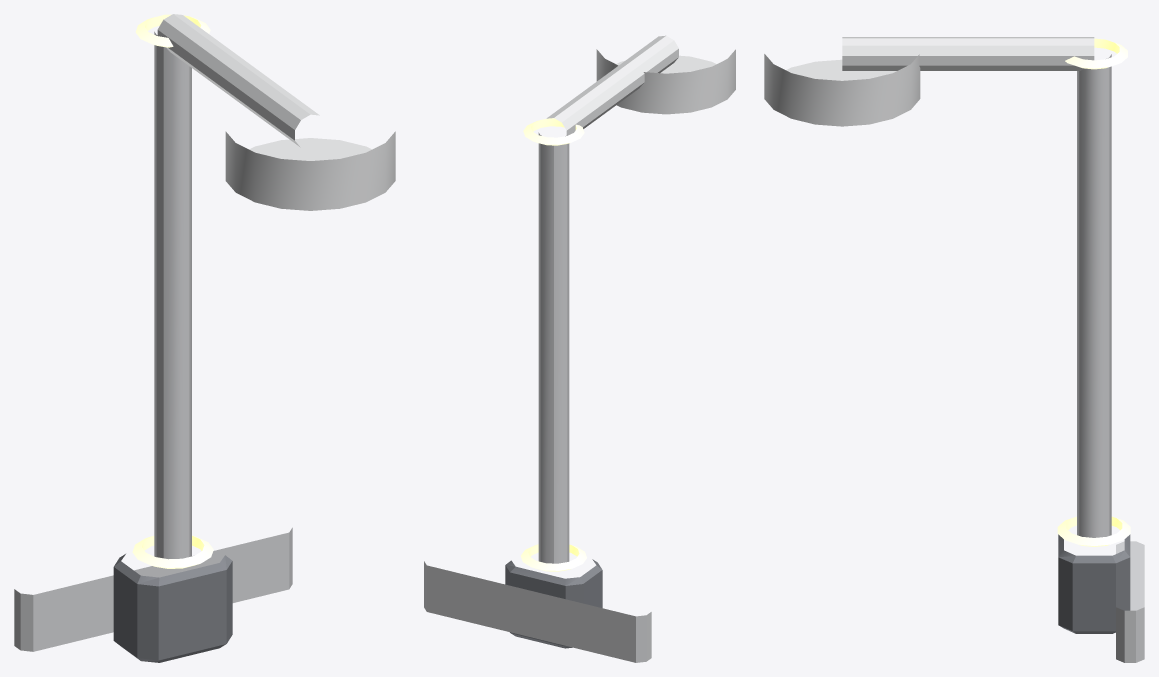
The model's file is iter_02.glb.
The picture shows the model from 3 angles, left to right: view 1: azimuth 30°, elevation 25°; view 2: azimuth 150°, elevation 25°; view 3: azimuth 270°, elevation 25°; orthographic projection. The views are drawn at different scales.
Parts seen in each view (by area): view 1: Mast, Head_Shell, Slider, Rail_Stub, Boom, Latch_Lights; view 2: Mast, Rail_Stub, Head_Shell, Boom, Slider, Latch_Lights; view 3: Mast, Head_Shell, Boom, Slider, Rail_Stub, Latch_Lights.
Boxes of the visible parts, left/top/right/bottom form: Mast: left=154, top=31, right=191, bottom=559; Head_Shell: left=225, top=131, right=395, bottom=210; Slider: left=113, top=554, right=232, bottom=662; Rail_Stub: left=14, top=527, right=292, bottom=651; Boom: left=157, top=14, right=319, bottom=147; Latch_Lights: left=132, top=14, right=213, bottom=568; Mast: left=538, top=132, right=569, bottom=563; Rail_Stub: left=424, top=561, right=651, bottom=662; Head_Shell: left=596, top=49, right=735, bottom=114; Boom: left=546, top=35, right=678, bottom=135; Slider: left=505, top=559, right=602, bottom=648; Latch_Lights: left=521, top=118, right=586, bottom=571; Mast: left=1077, top=54, right=1111, bottom=537; Head_Shell: left=764, top=54, right=920, bottom=126; Boom: left=842, top=37, right=1094, bottom=70; Slider: left=1058, top=534, right=1130, bottom=633; Rail_Stub: left=1116, top=541, right=1144, bottom=662; Latch_Lights: left=1057, top=38, right=1130, bottom=546.
Size of the model in its own units: 0.2 by 0.442 by 0.2642.
